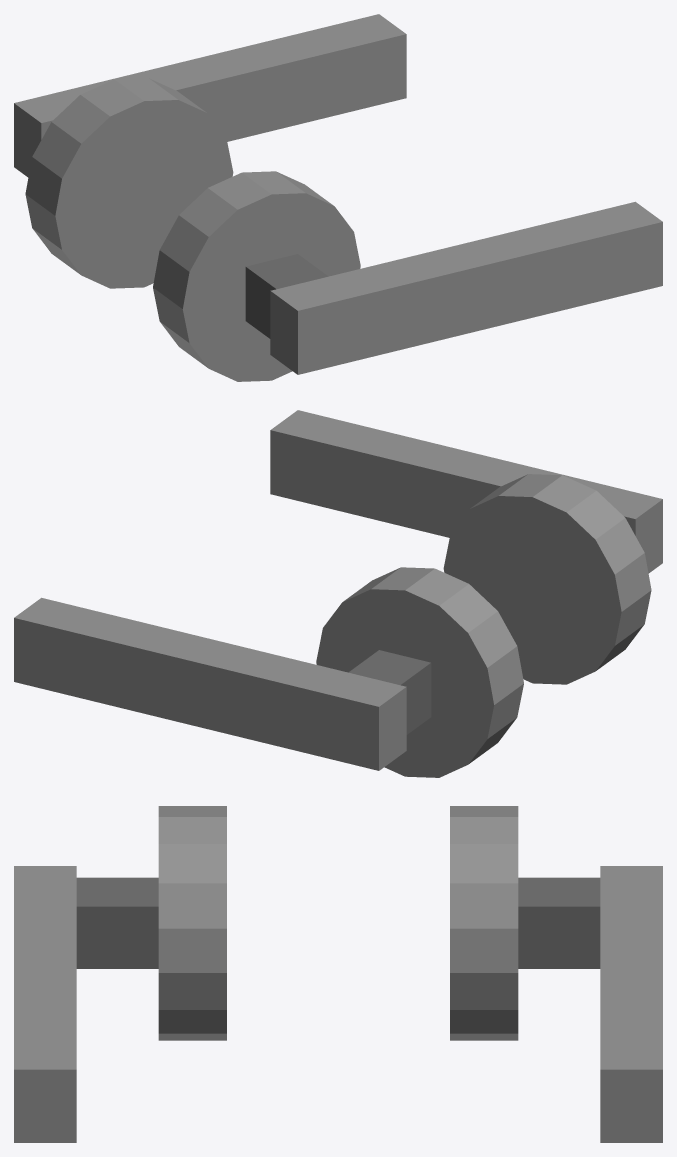
File: DoorHandle1_C2.fbx
The picture shows the model from 3 angles, top to bottom: view 1: azimuth 30°, elevation 25°; view 2: azimuth 150°, elevation 25°; view 3: azimuth 270°, elevation 25°; orthographic projection. The views are drawn at different scales.
Visible parts, largest first — view 1: DoorHandle1_C2; view 2: DoorHandle1_C2; view 3: DoorHandle1_C2.
Boxes of the visible parts, x1,y1,x2,y2 form: DoorHandle1_C2: [14, 14, 662, 381]; DoorHandle1_C2: [14, 410, 662, 777]; DoorHandle1_C2: [14, 806, 662, 1142].
Size of the model in its own units: 16.88 by 7.21 by 19.91.
